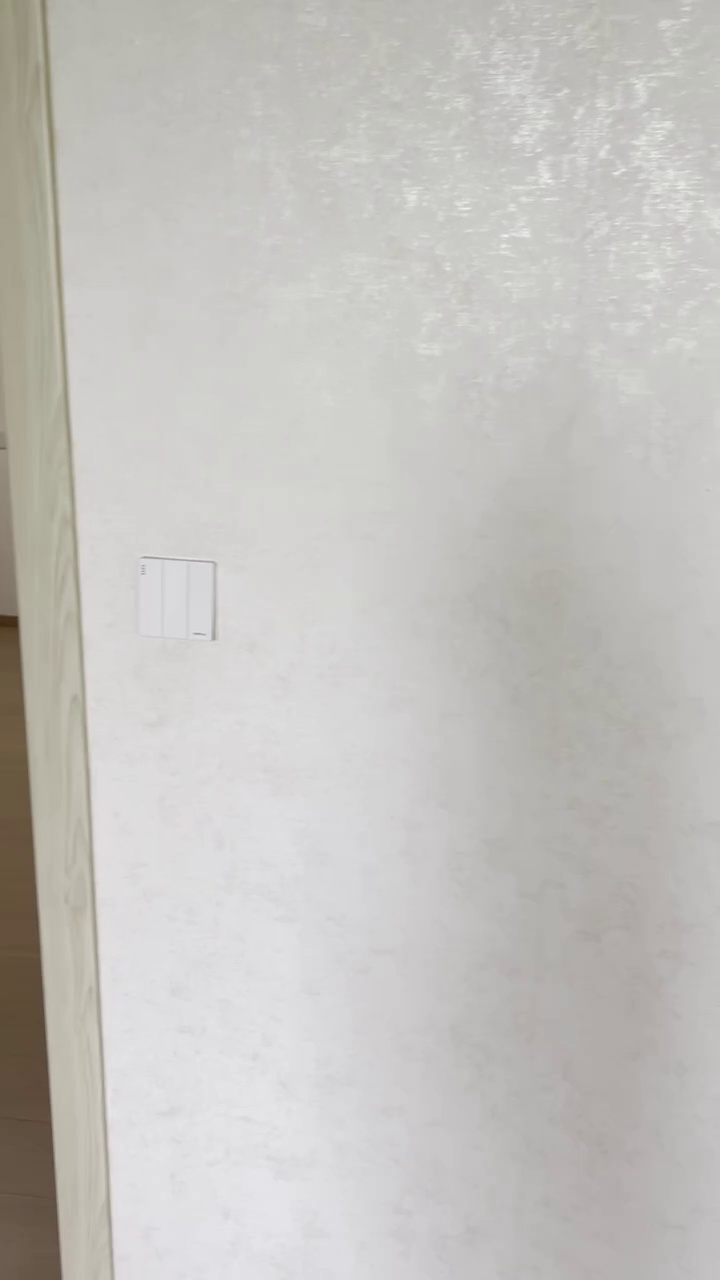button: (132, 555, 224, 649)
